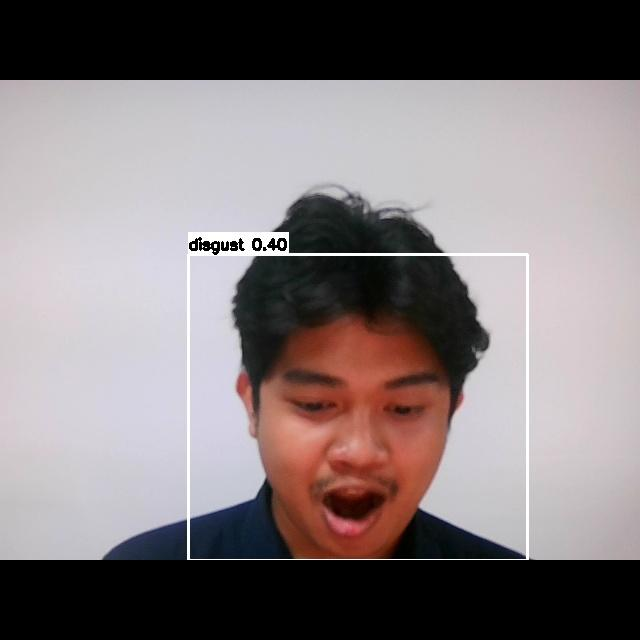Surprised: (257, 349, 462, 549)
